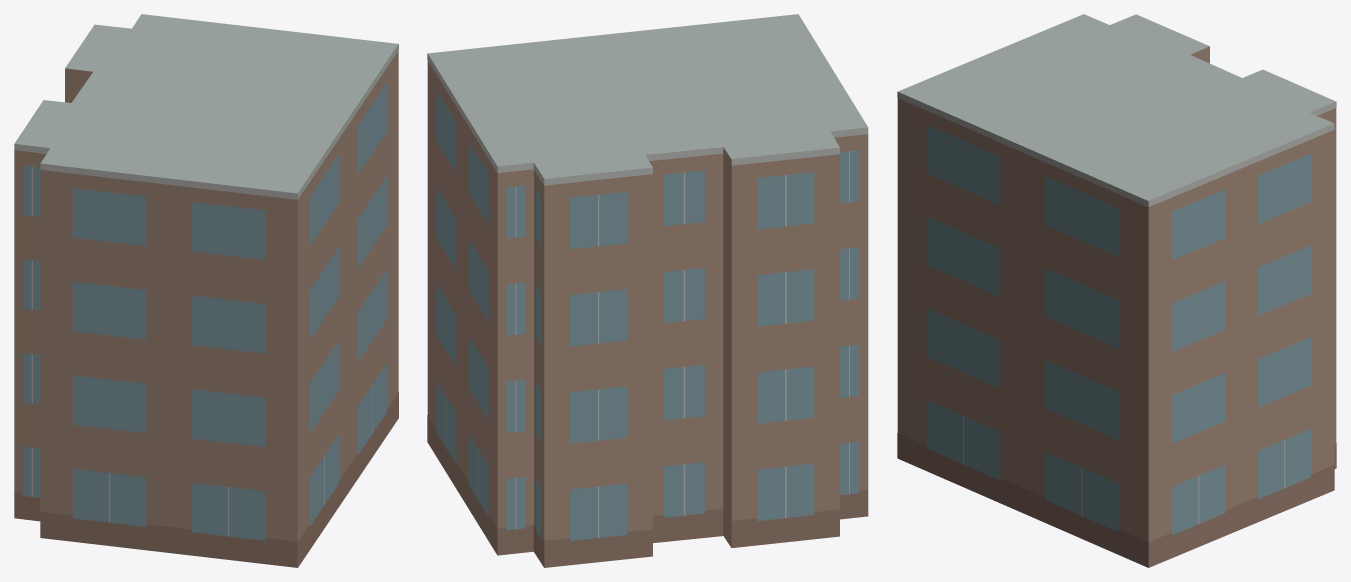
Rendered from survey-upis-33041486.glb.
The picture shows the model from 3 angles, left to right: view 1: azimuth 30°, elevation 25°; view 2: azimuth 150°, elevation 25°; view 3: azimuth 270°, elevation 25°; orthographic projection. The views are drawn at different scales.
Visible parts, largest first — view 1: survey-upis-33041486.tmp; view 2: survey-upis-33041486.tmp; view 3: survey-upis-33041486.tmp.
Boxes of the visible parts, left/top/right/bottom form: survey-upis-33041486.tmp: left=14, top=14, right=398, bottom=567; survey-upis-33041486.tmp: left=427, top=14, right=868, bottom=567; survey-upis-33041486.tmp: left=897, top=14, right=1336, bottom=567.
Size of the model in its own units: 15.79 by 14.43 by 15.65.
